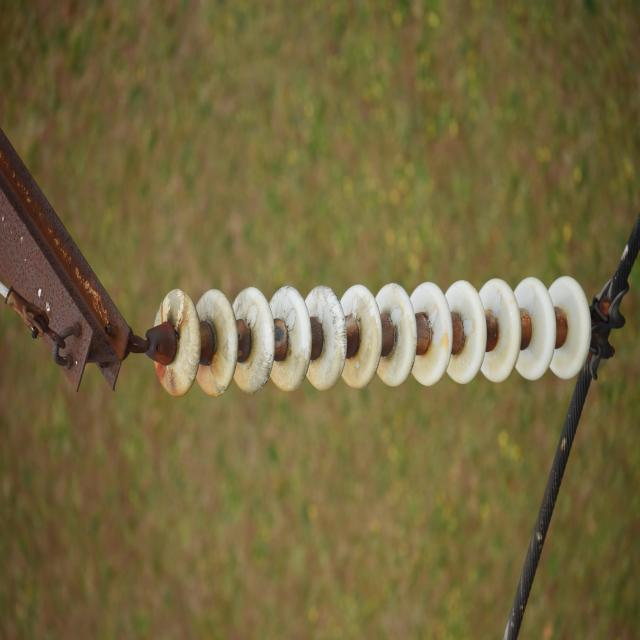insulator: (154, 275, 592, 397)
